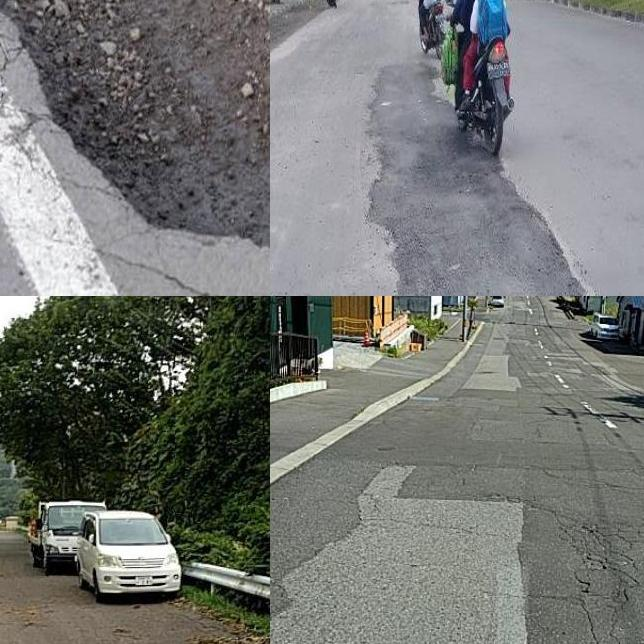Pinggir: (0, 0, 270, 263)
Sambungan: (360, 61, 587, 296), (270, 466, 533, 644)
